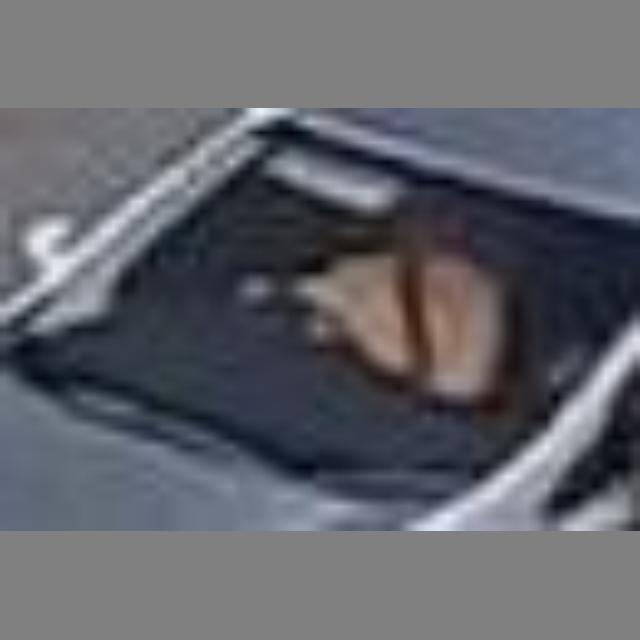pakai: (256, 177, 492, 423)
